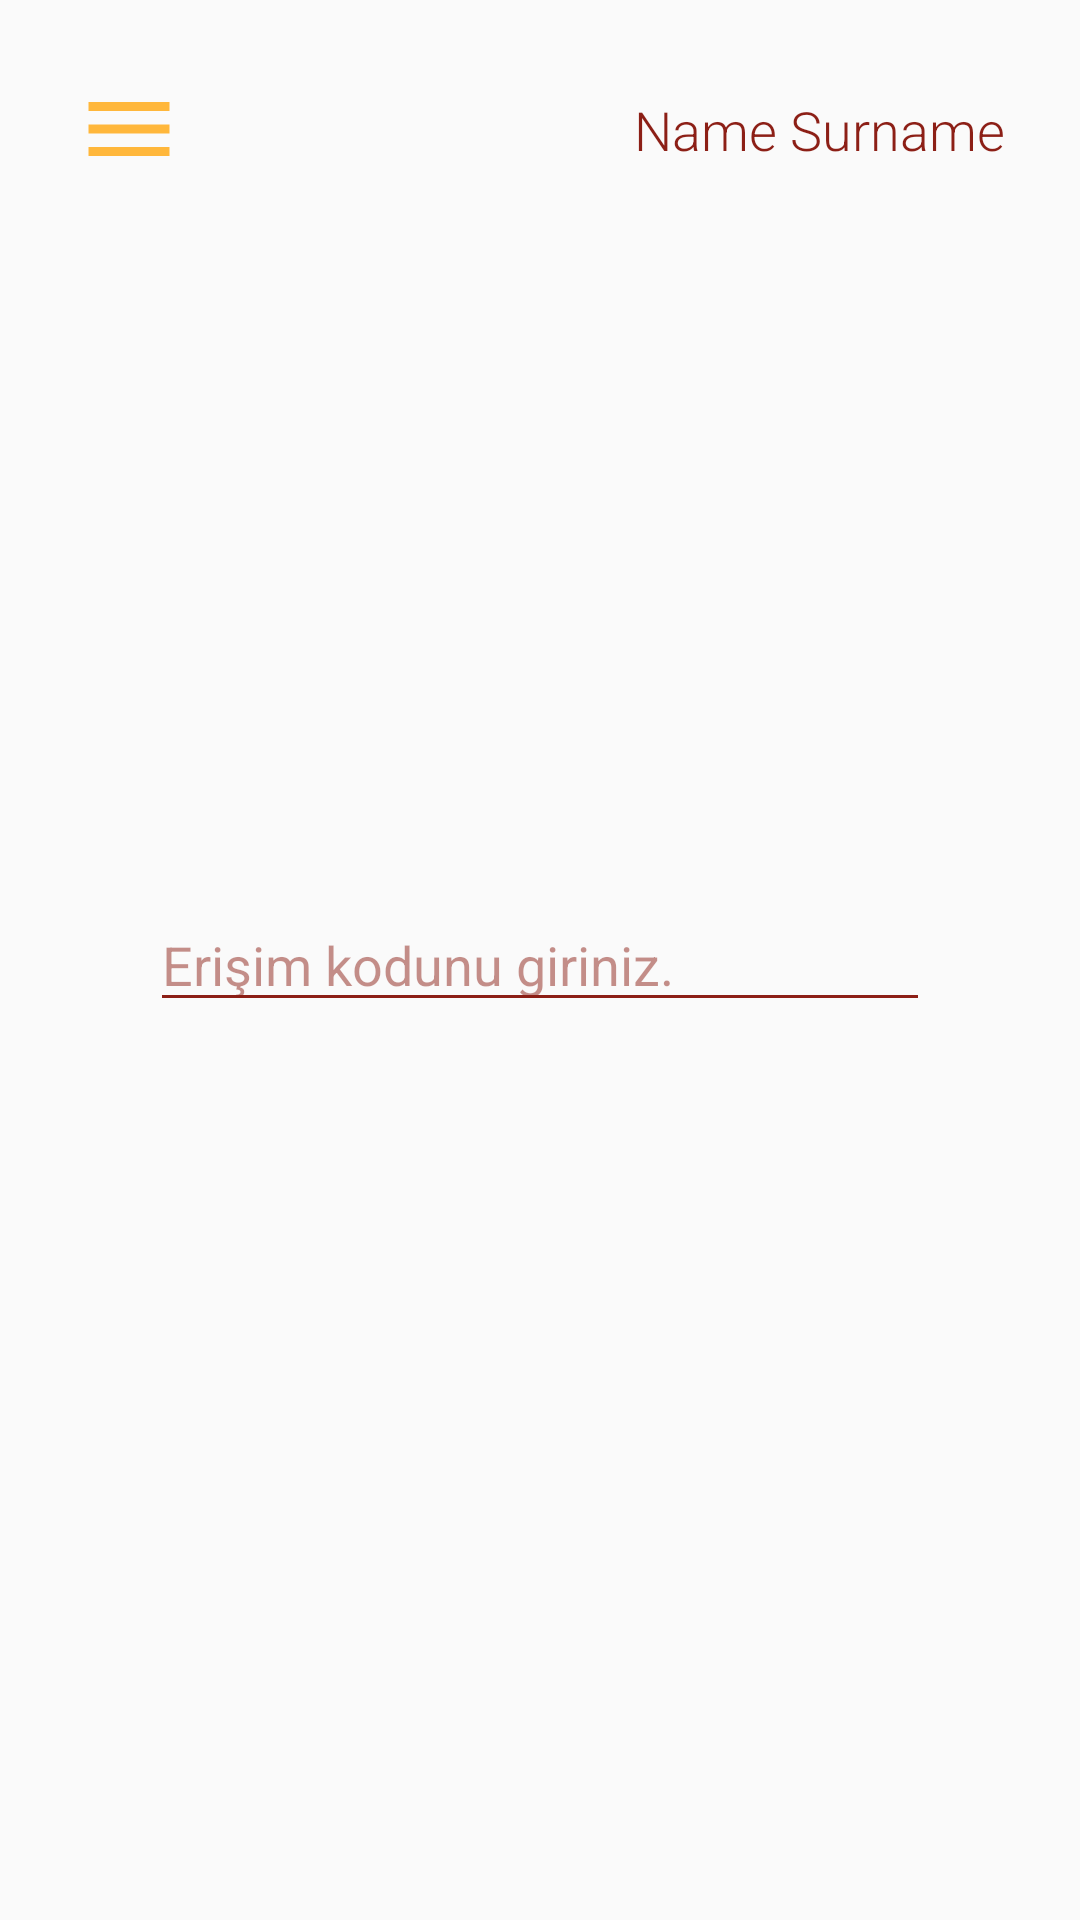

Screen size 1080*1920. Icon name, then its center in pixels as (x=x, y=y):
menu: (x=129, y=129)
